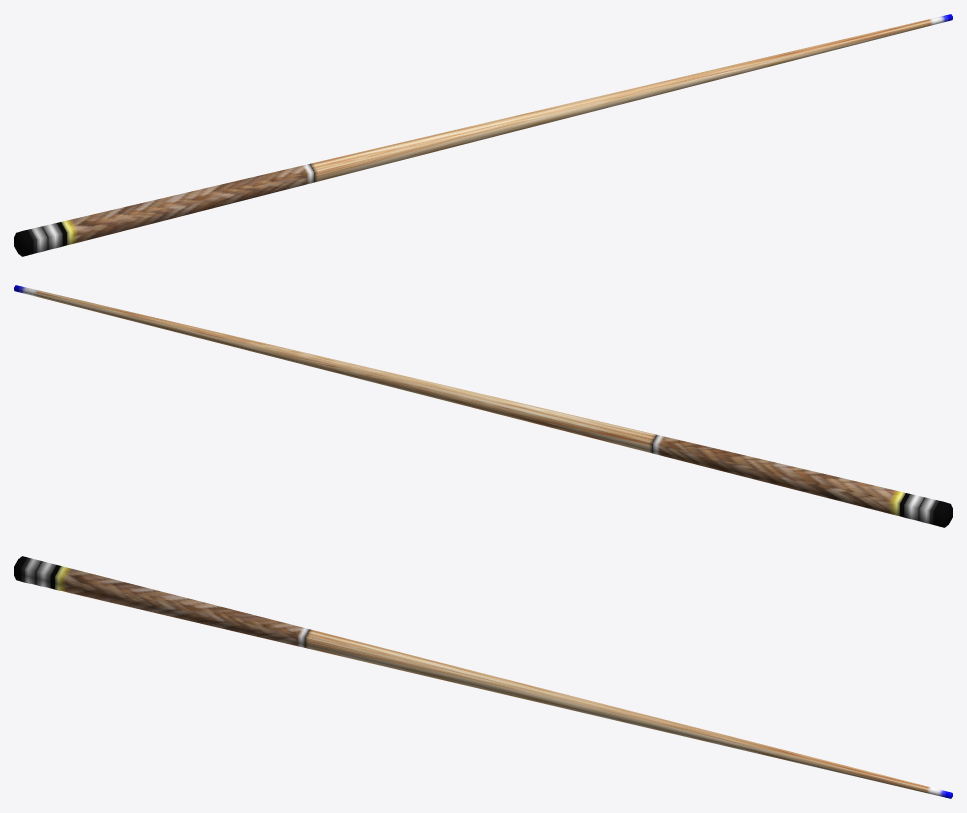
File: billiard_cue.glb
The picture shows the model from 3 angles, top to bottom: view 1: azimuth 30°, elevation 25°; view 2: azimuth 150°, elevation 25°; view 3: azimuth 330°, elevation 25°; orthographic projection.
Parts seen in each view (by area): view 1: Cone001_01 - Default_0; view 2: Cone001_01 - Default_0; view 3: Cone001_01 - Default_0.
Boxes of the visible parts, <box> form: Cone001_01 - Default_0: <box>14,14,952,256</box>; Cone001_01 - Default_0: <box>14,285,952,527</box>; Cone001_01 - Default_0: <box>14,556,952,798</box>.
Bounding box in the file's own units: 1.51 × 0.04 × 0.0346.
1 material, 1 textured.
